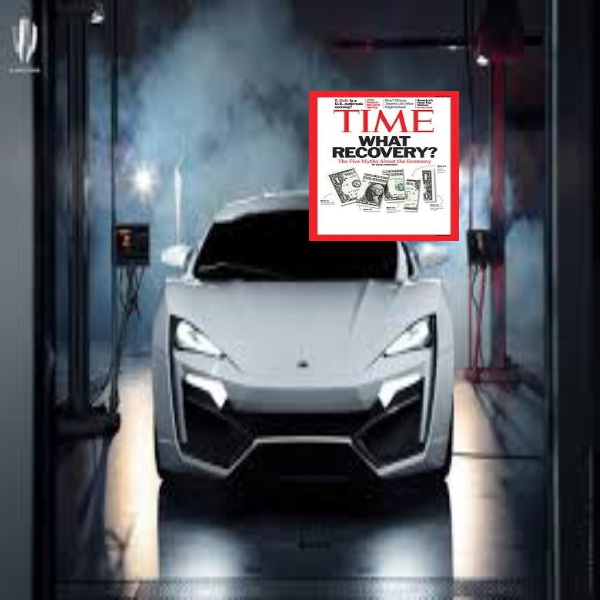time_cover: (296, 81, 461, 251)
